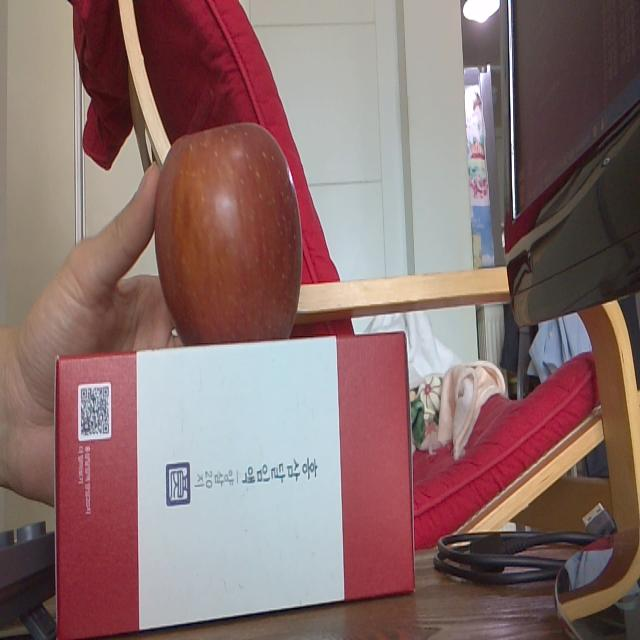apple: (157, 122, 303, 337)
